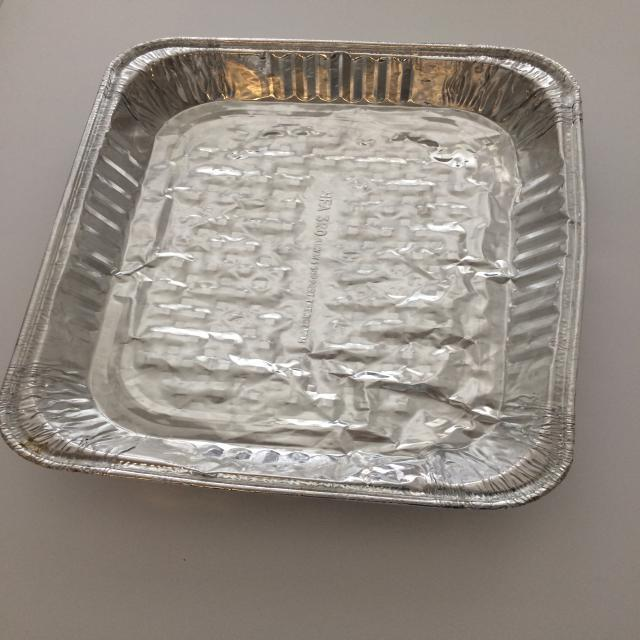metal: (2, 35, 588, 513)
